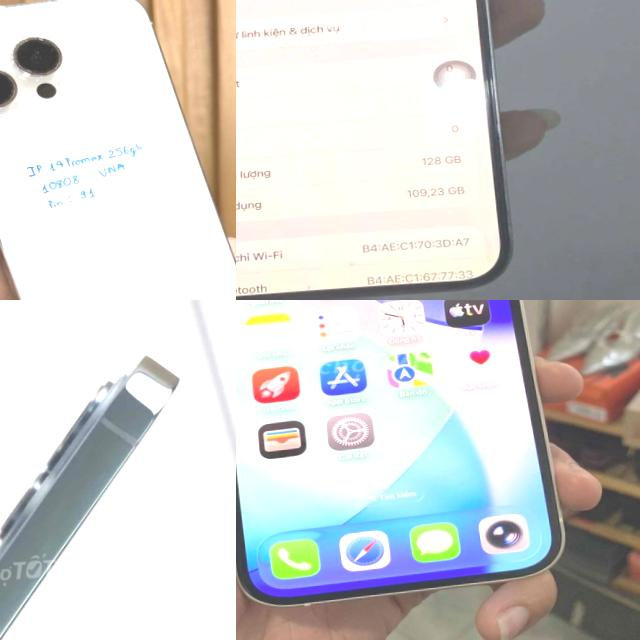gen_12_13: (0, 354, 206, 640)
gen_14: (236, 300, 569, 614), (236, 0, 535, 300), (0, 0, 236, 300)
